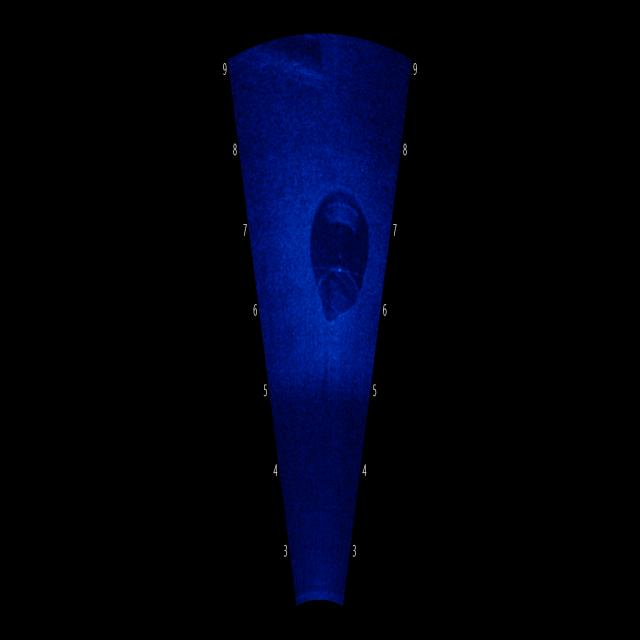circle: (300, 164, 370, 324)
